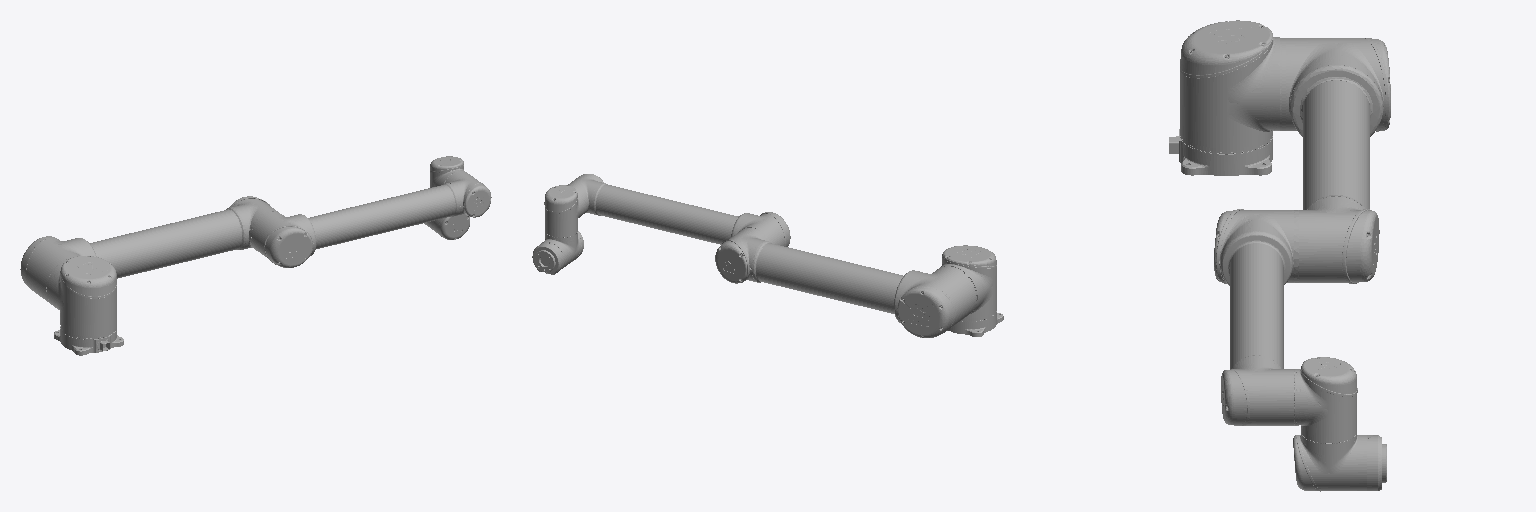
robot.urdf — ur10_robot:
<?xml version="1.0" ?>
<!-- =================================================================================== -->
<!-- |    This document was autogenerated by xacro from ur10.xacro                     | -->
<!-- |    EDITING THIS FILE BY HAND IS NOT RECOMMENDED                                 | -->
<!-- =================================================================================== -->
<robot name="ur10_robot">
  <!--
    Base UR robot series xacro macro.

    NOTE: this is NOT a URDF. It cannot directly be loaded by consumers
    expecting a flattened '.urdf' file. See the top-level '.xacro' for that
    (but note: that .xacro must still be processed by the xacro command).

    For use in '.launch' files: use one of the 'load_urX.launch' convenience
    launch files.

    This file models the base kinematic chain of a UR robot, which then gets
    parameterised by various configuration files to convert it into a UR3(e),
    UR5(e), UR10(e) or UR16e.

    NOTE: the default kinematic parameters (ie: link lengths, frame locations,
    offets, etc) do not correspond to any particular robot. They are defaults
    only. There WILL be non-zero offsets between the Forward Kinematics results
    in TF (ie: robot_state_publisher) and the values reported by the Teach
    Pendant.

    For accurate (and robot-specific) transforms, the 'kinematics_parameters_file'
    parameter MUST point to a .yaml file containing the appropriate values for
    the targetted robot.

    If using the UniversalRobots/Universal_Robots_ROS_Driver, follow the steps
    described in the readme of that repository to extract the kinematic
    calibration from the controller and generate the required .yaml file.

    Main author of the migration to yaml configs: [author].

    Contributors to previous versions (in no particular order):

     - [author]
     - [author]
     - [author]
     - [author]
     - [author]
     - [author]
     - [author]
     - [author]
     - [author]
     - [author]
     - [author]
     - [author]
     - [author]
     - [author]
     - [author]
     - [author]
     - [author]
  -->
  <!--
    NOTE: the macro defined in this file is NOT part of the public API of this
          package. Users CANNOT rely on this file being available, or stored in
          this location. Nor can they rely on the existence of the macro.
  -->
  <transmission name="shoulder_pan_trans">
    <type>transmission_interface/SimpleTransmission</type>
    <joint name="shoulder_pan_joint">
      <hardwareInterface>hardware_interface/PositionJointInterface</hardwareInterface>
    </joint>
    <actuator name="shoulder_pan_motor">
      <mechanicalReduction>1</mechanicalReduction>
    </actuator>
  </transmission>
  <transmission name="shoulder_lift_trans">
    <type>transmission_interface/SimpleTransmission</type>
    <joint name="shoulder_lift_joint">
      <hardwareInterface>hardware_interface/PositionJointInterface</hardwareInterface>
    </joint>
    <actuator name="shoulder_lift_motor">
      <mechanicalReduction>1</mechanicalReduction>
    </actuator>
  </transmission>
  <transmission name="elbow_trans">
    <type>transmission_interface/SimpleTransmission</type>
    <joint name="elbow_joint">
      <hardwareInterface>hardware_interface/PositionJointInterface</hardwareInterface>
    </joint>
    <actuator name="elbow_motor">
      <mechanicalReduction>1</mechanicalReduction>
    </actuator>
  </transmission>
  <transmission name="wrist_1_trans">
    <type>transmission_interface/SimpleTransmission</type>
    <joint name="wrist_1_joint">
      <hardwareInterface>hardware_interface/PositionJointInterface</hardwareInterface>
    </joint>
    <actuator name="wrist_1_motor">
      <mechanicalReduction>1</mechanicalReduction>
    </actuator>
  </transmission>
  <transmission name="wrist_2_trans">
    <type>transmission_interface/SimpleTransmission</type>
    <joint name="wrist_2_joint">
      <hardwareInterface>hardware_interface/PositionJointInterface</hardwareInterface>
    </joint>
    <actuator name="wrist_2_motor">
      <mechanicalReduction>1</mechanicalReduction>
    </actuator>
  </transmission>
  <transmission name="wrist_3_trans">
    <type>transmission_interface/SimpleTransmission</type>
    <joint name="wrist_3_joint">
      <hardwareInterface>hardware_interface/PositionJointInterface</hardwareInterface>
    </joint>
    <actuator name="wrist_3_motor">
      <mechanicalReduction>1</mechanicalReduction>
    </actuator>
  </transmission>
  <!-- links: main serial chain -->
  <link name="base_link"/>
  <link name="base_link_inertia">
    <visual>
      <origin rpy="0 0 3.141592653589793" xyz="0 0 0"/>
      <geometry>
        <mesh filename="package://ur_description/meshes/ur10/visual/base.dae"/>
      </geometry>
      <material name="LightGrey">
        <color rgba="0.7 0.7 0.7 1.0"/>
      </material>
    </visual>
    <collision>
      <origin rpy="0 0 3.141592653589793" xyz="0 0 0"/>
      <geometry>
        <mesh filename="package://ur_description/meshes/ur10/collision/base.stl"/>
      </geometry>
    </collision>
    <inertial>
      <mass value="4.0"/>
      <origin rpy="0 0 0" xyz="0 0 0"/>
      <inertia ixx="0.0061063308908" ixy="0.0" ixz="0.0" iyy="0.0061063308908" iyz="0.0" izz="0.01125"/>
    </inertial>
  </link>
  <link name="shoulder_link">
    <visual>
      <origin rpy="0 0 3.141592653589793" xyz="0 0 0"/>
      <geometry>
        <mesh filename="package://ur_description/meshes/ur10/visual/shoulder.dae"/>
      </geometry>
      <material name="LightGrey">
        <color rgba="0.7 0.7 0.7 1.0"/>
      </material>
    </visual>
    <collision>
      <origin rpy="0 0 3.141592653589793" xyz="0 0 0"/>
      <geometry>
        <mesh filename="package://ur_description/meshes/ur10/collision/shoulder.stl"/>
      </geometry>
    </collision>
    <inertial>
      <mass value="7.778"/>
      <origin rpy="0 0 0" xyz="0 0 0"/>
      <inertia ixx="0.03147431257693659" ixy="0.0" ixz="0.0" iyy="0.03147431257693659" iyz="0.0" izz="0.021875624999999996"/>
    </inertial>
  </link>
  <link name="upper_arm_link">
    <visual>
      <origin rpy="1.5707963267948966 0 -1.5707963267948966" xyz="0 0 0.220941"/>
      <geometry>
        <mesh filename="package://ur_description/meshes/ur10/visual/upperarm.dae"/>
      </geometry>
      <material name="LightGrey">
        <color rgba="0.7 0.7 0.7 1.0"/>
      </material>
    </visual>
    <collision>
      <origin rpy="1.5707963267948966 0 -1.5707963267948966" xyz="0 0 0.220941"/>
      <geometry>
        <mesh filename="package://ur_description/meshes/ur10/collision/upperarm.stl"/>
      </geometry>
    </collision>
    <inertial>
      <mass value="12.93"/>
      <origin rpy="0 1.5707963267948966 0" xyz="-0.306 0.0 0.175"/>
      <inertia ixx="0.42175380379841093" ixy="0.0" ixz="0.0" iyy="0.42175380379841093" iyz="0.0" izz="0.03636562499999999"/>
    </inertial>
  </link>
  <link name="forearm_link">
    <visual>
      <origin rpy="1.5707963267948966 0 -1.5707963267948966" xyz="0 0 0.049042"/>
      <geometry>
        <mesh filename="package://ur_description/meshes/ur10/visual/forearm.dae"/>
      </geometry>
      <material name="LightGrey">
        <color rgba="0.7 0.7 0.7 1.0"/>
      </material>
    </visual>
    <collision>
      <origin rpy="1.5707963267948966 0 -1.5707963267948966" xyz="0 0 0.049042"/>
      <geometry>
        <mesh filename="package://ur_description/meshes/ur10/collision/forearm.stl"/>
      </geometry>
    </collision>
    <inertial>
      <mass value="3.87"/>
      <origin rpy="0 1.5707963267948966 0" xyz="-0.28615 0.0 0.049042"/>
      <inertia ixx="0.11106969409710458" ixy="0.0" ixz="0.0" iyy="0.11106969409710458" iyz="0.0" izz="0.010884375"/>
    </inertial>
  </link>
  <link name="wrist_1_link">
    <visual>
      <!-- TODO: Move this to a parameter -->
      <origin rpy="1.5707963267948966 0 0" xyz="0 0 -0.1149"/>
      <geometry>
        <mesh filename="package://ur_description/meshes/ur10/visual/wrist1.dae"/>
      </geometry>
      <material name="LightGrey">
        <color rgba="0.7 0.7 0.7 1.0"/>
      </material>
    </visual>
    <collision>
      <origin rpy="1.5707963267948966 0 0" xyz="0 0 -0.1149"/>
      <geometry>
        <mesh filename="package://ur_description/meshes/ur10/collision/wrist1.stl"/>
      </geometry>
    </collision>
    <inertial>
      <mass value="1.96"/>
      <origin rpy="0 0 0" xyz="0 0 0"/>
      <inertia ixx="0.005108247956699999" ixy="0.0" ixz="0.0" iyy="0.005108247956699999" iyz="0.0" izz="0.005512499999999999"/>
    </inertial>
  </link>
  <link name="wrist_2_link">
    <visual>
      <origin rpy="0 0 0" xyz="0 0 -0.1158"/>
      <geometry>
        <mesh filename="package://ur_description/meshes/ur10/visual/wrist2.dae"/>
      </geometry>
      <material name="LightGrey">
        <color rgba="0.7 0.7 0.7 1.0"/>
      </material>
    </visual>
    <collision>
      <origin rpy="0 0 0" xyz="0 0 -0.1158"/>
      <geometry>
        <mesh filename="package://ur_description/meshes/ur10/collision/wrist2.stl"/>
      </geometry>
    </collision>
    <inertial>
      <mass value="1.96"/>
      <origin rpy="0 0 0" xyz="0 0 0"/>
      <inertia ixx="0.0040792483683" ixy="0.0" ixz="0.0" iyy="0.0040792483683" iyz="0.0" izz="0.005512499999999999"/>
    </inertial>
  </link>
  <link name="wrist_3_link">
    <visual>
      <origin rpy="1.5707963267948966 0 0" xyz="0 0 -0.0922"/>
      <geometry>
        <mesh filename="package://ur_description/meshes/ur10/visual/wrist3.dae"/>
      </geometry>
      <material name="LightGrey">
        <color rgba="0.7 0.7 0.7 1.0"/>
      </material>
    </visual>
    <collision>
      <origin rpy="1.5707963267948966 0 0" xyz="0 0 -0.0922"/>
      <geometry>
        <mesh filename="package://ur_description/meshes/ur10/collision/wrist3.stl"/>
      </geometry>
    </collision>
    <inertial>
      <mass value="0.202"/>
      <origin rpy="0 0 0" xyz="0.0 0.0 -0.01525"/>
      <inertia ixx="0.00011792166116465" ixy="0.0" ixz="0.0" iyy="0.00011792166116465" iyz="0.0" izz="0.00020452500000000002"/>
    </inertial>
  </link>
  <!-- joints: main serial chain -->
  <joint name="base_link-base_link_inertia" type="fixed">
    <parent link="base_link"/>
    <child link="base_link_inertia"/>
    <!-- 'base_link' is REP-103 aligned (so X+ forward), while the internal
           frames of the robot/controller have X+ pointing backwards.
           Use the joint between 'base_link' and 'base_link_inertia' (a dummy
           link/frame) to introduce the necessary rotation over Z (of pi rad).
      -->
    <origin rpy="0 0 3.141592653589793" xyz="0 0 0"/>
  </joint>
  <joint name="shoulder_pan_joint" type="revolute">
    <parent link="base_link_inertia"/>
    <child link="shoulder_link"/>
    <origin rpy="0 0 0" xyz="0 0 0.1273"/>
    <axis xyz="0 0 1"/>
    <limit effort="330.0" lower="-6.283185307179586" upper="6.283185307179586" velocity="2.0943951023931953"/>
    <dynamics damping="0" friction="0"/>
  </joint>
  <joint name="shoulder_lift_joint" type="revolute">
    <parent link="shoulder_link"/>
    <child link="upper_arm_link"/>
    <origin rpy="1.570796327 0 0" xyz="0 0 0"/>
    <axis xyz="0 0 1"/>
    <limit effort="330.0" lower="-6.283185307179586" upper="6.283185307179586" velocity="2.0943951023931953"/>
    <dynamics damping="0" friction="0"/>
  </joint>
  <joint name="elbow_joint" type="revolute">
    <parent link="upper_arm_link"/>
    <child link="forearm_link"/>
    <origin rpy="0 0 0" xyz="-0.612 0 0"/>
    <axis xyz="0 0 1"/>
    <limit effort="150.0" lower="-3.141592653589793" upper="3.141592653589793" velocity="3.141592653589793"/>
    <dynamics damping="0" friction="0"/>
  </joint>
  <joint name="wrist_1_joint" type="revolute">
    <parent link="forearm_link"/>
    <child link="wrist_1_link"/>
    <origin rpy="0 0 0" xyz="-0.5723 0 0.163941"/>
    <axis xyz="0 0 1"/>
    <limit effort="56.0" lower="-6.283185307179586" upper="6.283185307179586" velocity="3.141592653589793"/>
    <dynamics damping="0" friction="0"/>
  </joint>
  <joint name="wrist_2_joint" type="revolute">
    <parent link="wrist_1_link"/>
    <child link="wrist_2_link"/>
    <origin rpy="1.570796327 0 0" xyz="0 -0.1157 -2.373046667922381e-11"/>
    <axis xyz="0 0 1"/>
    <limit effort="56.0" lower="-6.283185307179586" upper="6.283185307179586" velocity="3.141592653589793"/>
    <dynamics damping="0" friction="0"/>
  </joint>
  <joint name="wrist_3_joint" type="revolute">
    <parent link="wrist_2_link"/>
    <child link="wrist_3_link"/>
    <origin rpy="1.570796326589793 3.141592653589793 3.141592653589793" xyz="0 0.0922 -1.891053610911353e-11"/>
    <axis xyz="0 0 1"/>
    <limit effort="56.0" lower="-6.283185307179586" upper="6.283185307179586" velocity="3.141592653589793"/>
    <dynamics damping="0" friction="0"/>
  </joint>
  <!-- ROS-Industrial 'base' frame: base_link to UR 'Base' Coordinates transform -->
  <link name="base"/>
  <joint name="base_link-base_fixed_joint" type="fixed">
    <!-- Note the rotation over Z of pi radians: as base_link is REP-103
           aligned (ie: has X+ forward, Y+ left and Z+ up), this is needed
           to correctly align 'base' with the 'Base' coordinate system of
           the UR controller.
      -->
    <origin rpy="0 0 3.141592653589793" xyz="0 0 0"/>
    <parent link="base_link"/>
    <child link="base"/>
  </joint>
  <!-- ROS-Industrial 'flange' frame: attachment point for EEF models -->
  <link name="flange"/>
  <joint name="wrist_3-flange" type="fixed">
    <parent link="wrist_3_link"/>
    <child link="flange"/>
    <origin rpy="0 -1.5707963267948966 -1.5707963267948966" xyz="0 0 0"/>
  </joint>
  <!-- ROS-Industrial 'tool0' frame: all-zeros tool frame -->
  <link name="tool0"/>
  <joint name="flange-tool0" type="fixed">
    <!-- default toolframe: X+ left, Y+ up, Z+ front -->
    <origin rpy="1.5707963267948966 0 1.5707963267948966" xyz="0 0 0"/>
    <parent link="flange"/>
    <child link="tool0"/>
  </joint>
</robot>

--- Facts derived from the render (not from the file) ---
The picture shows the robot from 3 angles, left to right: view 1: azimuth 30°, elevation 25°; view 2: azimuth 150°, elevation 25°; view 3: azimuth 270°, elevation 25°; orthographic projection.
Model ur10_robot with 11 links and 10 joints (6 revolute, 4 fixed), rooted at base_link, posed every joint at zero.
Links seen in each view (by area): view 1: upper_arm_link, forearm_link, shoulder_link, base_link_inertia, wrist_2_link, wrist_1_link; view 2: upper_arm_link, forearm_link, shoulder_link, wrist_1_link, wrist_3_link, wrist_2_link, base_link_inertia; view 3: upper_arm_link, forearm_link, shoulder_link, wrist_1_link, wrist_2_link, base_link_inertia, wrist_3_link.
Link boxes in pixels (<box>): upper_arm_link: <box>20,196,278,304</box>; forearm_link: <box>249,171,491,267</box>; shoulder_link: <box>48,256,116,339</box>; base_link_inertia: <box>54,328,123,355</box>; wrist_2_link: <box>424,214,469,239</box>; wrist_1_link: <box>430,156,463,187</box>; upper_arm_link: <box>715,229,976,337</box>; forearm_link: <box>567,174,790,246</box>; shoulder_link: <box>940,245,996,321</box>; wrist_1_link: <box>544,185,585,237</box>; wrist_3_link: <box>532,242,563,274</box>; wrist_2_link: <box>542,231,583,268</box>; base_link_inertia: <box>948,313,1003,336</box>; upper_arm_link: <box>1280,38,1390,283</box>; forearm_link: <box>1214,209,1298,425</box>; shoulder_link: <box>1180,20,1279,154</box>; wrist_1_link: <box>1295,357,1357,443</box>; wrist_2_link: <box>1293,435,1366,491</box>; base_link_inertia: <box>1169,129,1272,175</box>; wrist_3_link: <box>1367,435,1386,490</box>.
Bounding box of the posed robot: 1.31 × 0.3552 × 0.25 m (x, y, z).
7 mesh visuals loaded from 7 distinct referenced files (7 Collada DAE).